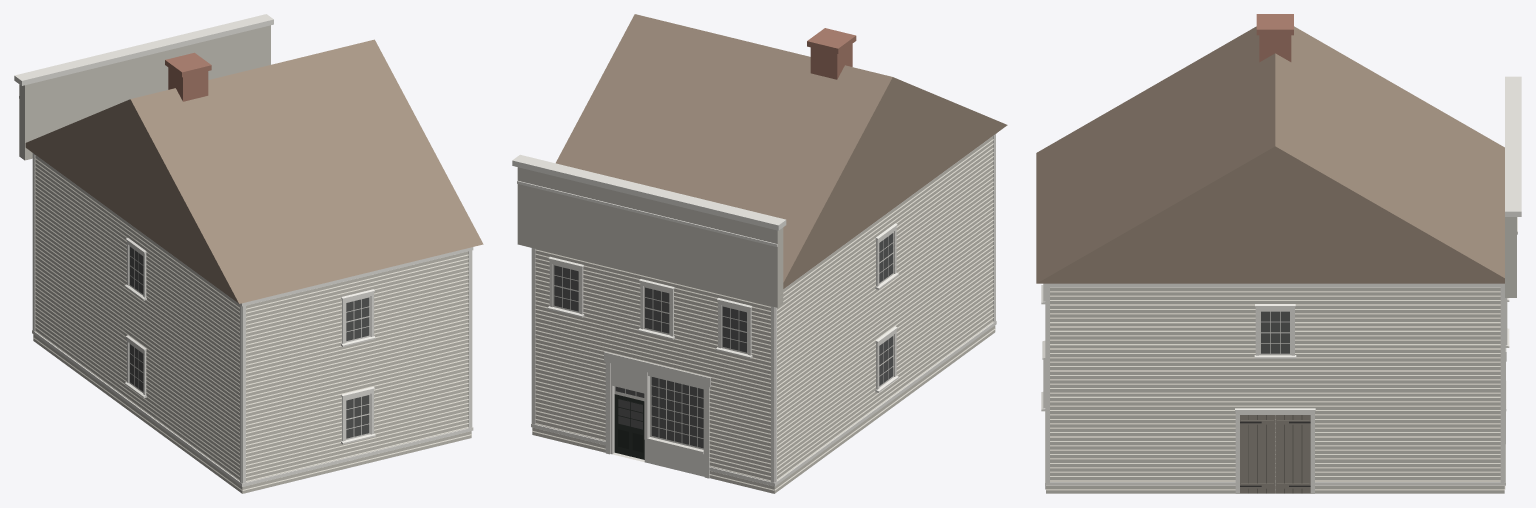
File: recon_1835_gifford_c3_003__inferred_1835.glb
3 views of the same model, side by side, from view 1: azimuth 30°, elevation 25°; view 2: azimuth 150°, elevation 25°; view 3: azimuth 270°, elevation 25° (orthographic). The views are drawn at different scales.
Parts seen in each view (by area): view 1: recon_1835_gifford_c3_003__inferred_1835; view 2: recon_1835_gifford_c3_003__inferred_1835; view 3: recon_1835_gifford_c3_003__inferred_1835.
Boxes of the visible parts, <box> form: recon_1835_gifford_c3_003__inferred_1835: <box>14,14,483,493</box>; recon_1835_gifford_c3_003__inferred_1835: <box>512,14,1007,493</box>; recon_1835_gifford_c3_003__inferred_1835: <box>1036,14,1521,493</box>.
Bounding box in the file's own units: 8.36 × 10.85 × 12.69.
